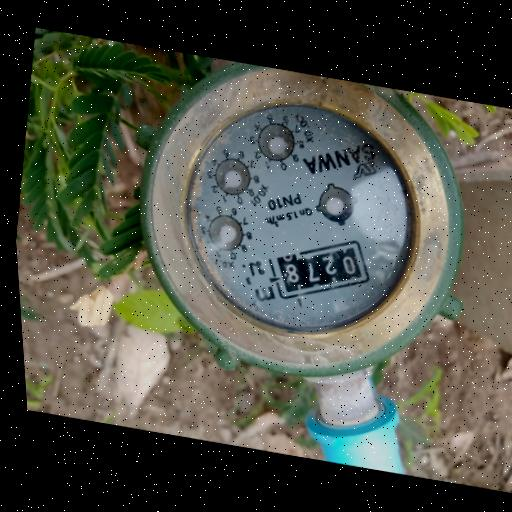0: (330, 243, 366, 284)
2: (312, 248, 348, 287)
7: (291, 250, 331, 291)
8: (270, 251, 310, 294)
border_water_meter_number: (259, 224, 378, 315)
